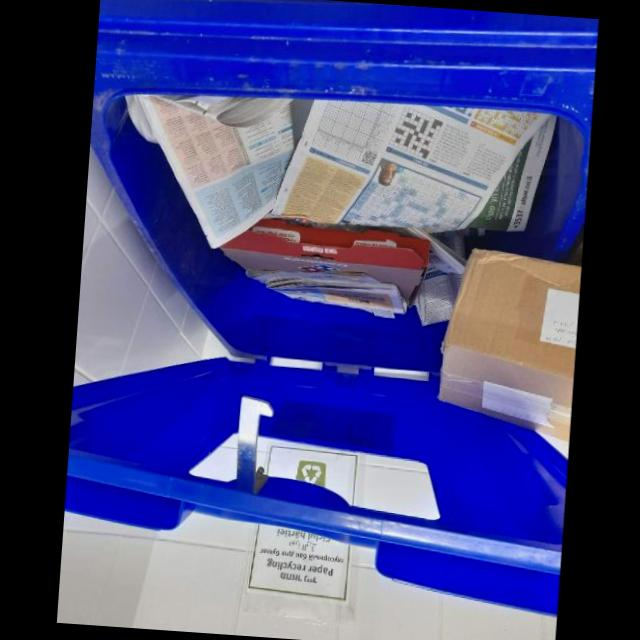carton: (441, 247, 579, 441)
giay: (265, 97, 549, 231), (136, 95, 292, 250), (467, 116, 555, 230), (247, 270, 405, 317), (158, 92, 288, 128), (416, 237, 460, 322)
